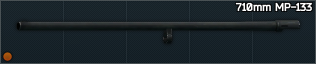MP-133 12ga 710mm barrel: (0, 0, 316, 64)
